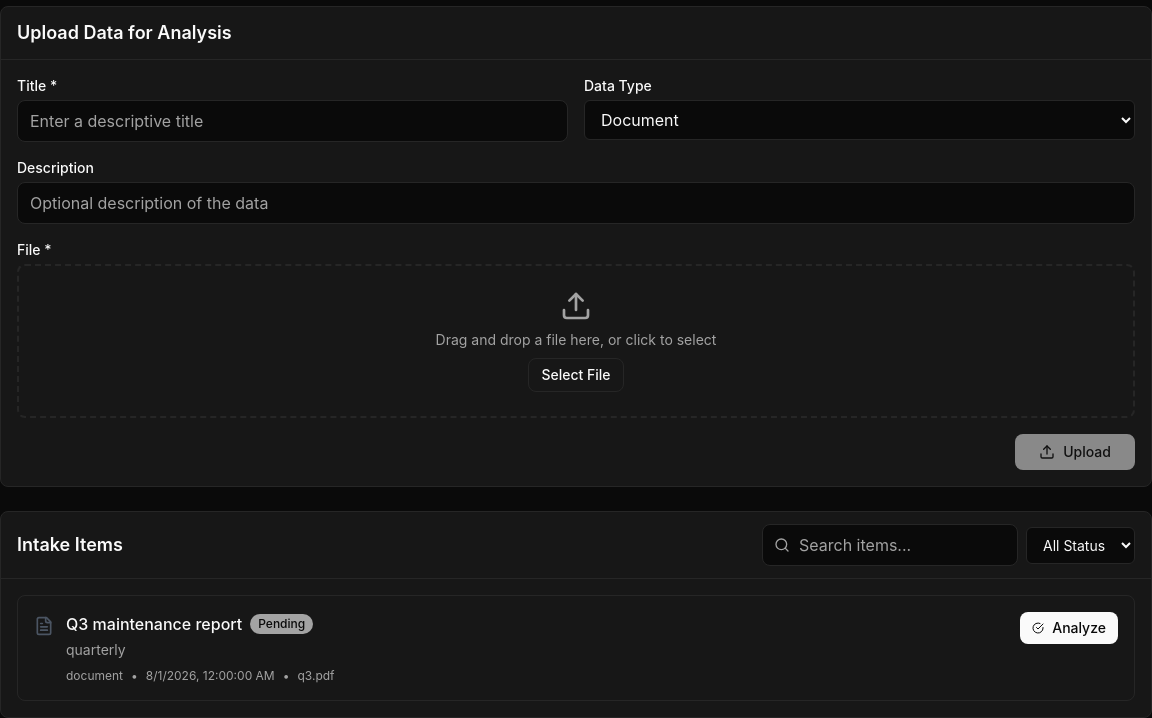
Test case: a partial analysis says so › warns when text was cut on a page
(page scrolled)
Click the button "Analyze": (1069, 628) [1020, 612, 1118, 644]
(page scrolled)
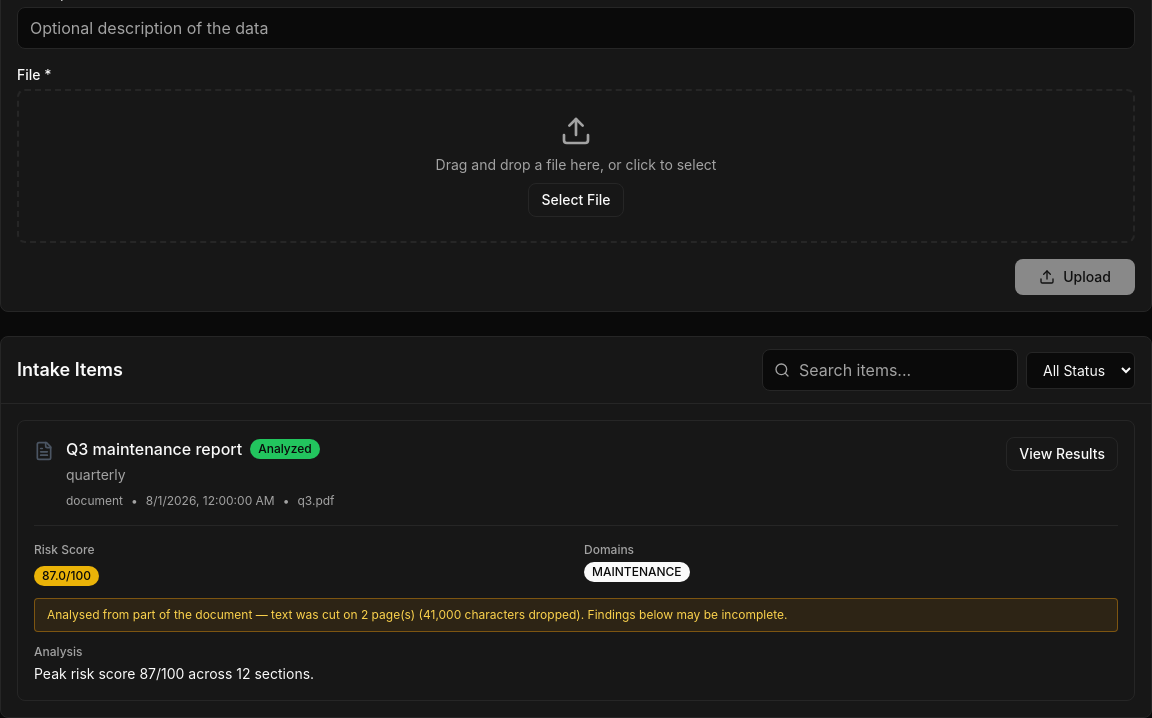
Expected: the text "part of the document" is shown, [47, 607, 252, 622]
Expected: the text "41,000 characters dropped" is shown, [252, 607, 581, 622]
